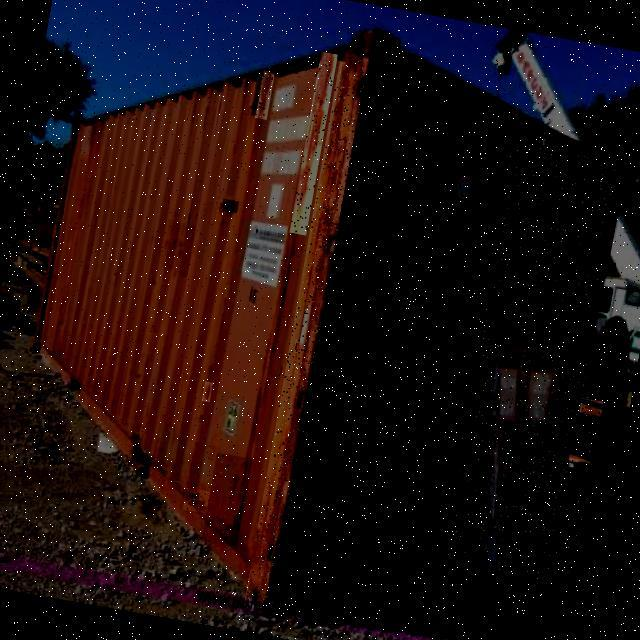Deframe: (439, 341, 610, 587)
Dent: (486, 140, 620, 312)
Hole: (473, 306, 497, 343)
Rust: (243, 53, 370, 615), (289, 52, 338, 238), (201, 452, 252, 547), (255, 70, 275, 120), (182, 487, 210, 513), (221, 198, 239, 213), (202, 381, 213, 402)
